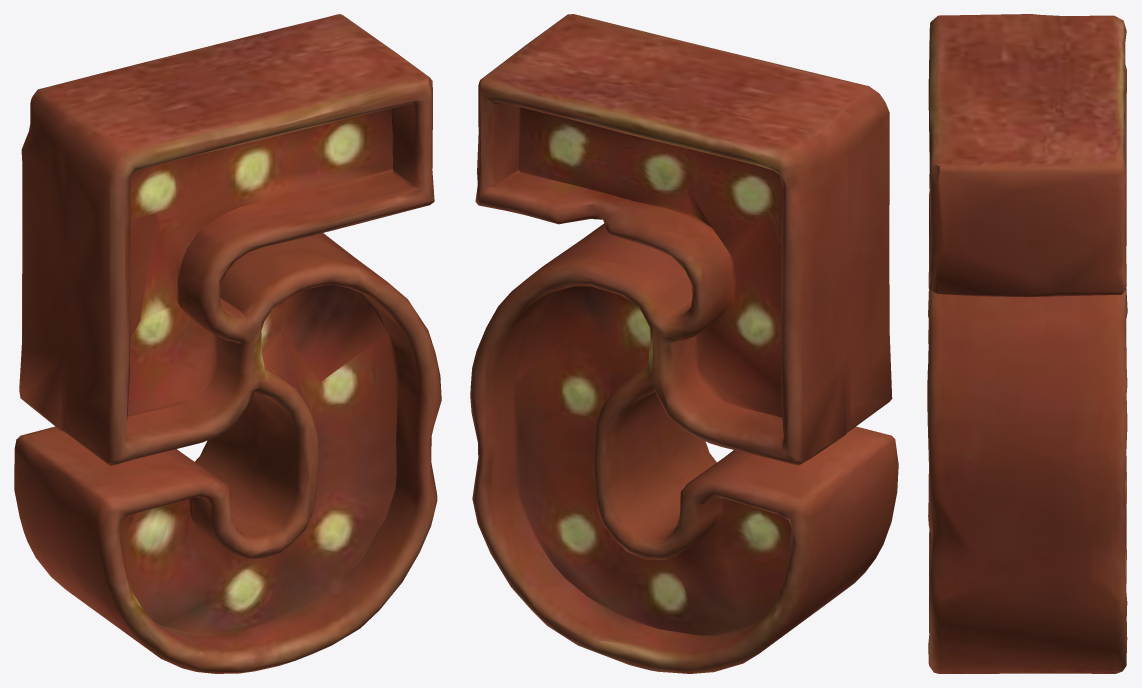
File: digit_5_idle.glb
3 renders of one model, left to right at view 1: azimuth 30°, elevation 25°; view 2: azimuth 150°, elevation 25°; view 3: azimuth 270°, elevation 25°, orthographic. The views are drawn at different scales.
Parts seen in each view (by area): view 1: tmp_digits_4_9_signs_01; view 2: tmp_digits_4_9_signs_01; view 3: tmp_digits_4_9_signs_01.
Boxes of the visible parts, bbox=[...] form: tmp_digits_4_9_signs_01: bbox=[14, 14, 441, 673]; tmp_digits_4_9_signs_01: bbox=[470, 14, 898, 673]; tmp_digits_4_9_signs_01: bbox=[927, 14, 1127, 673].
Size of the model in its own units: 0.6423 by 0.9879 by 0.3186.
Materials: 1 (1 with a texture image).
